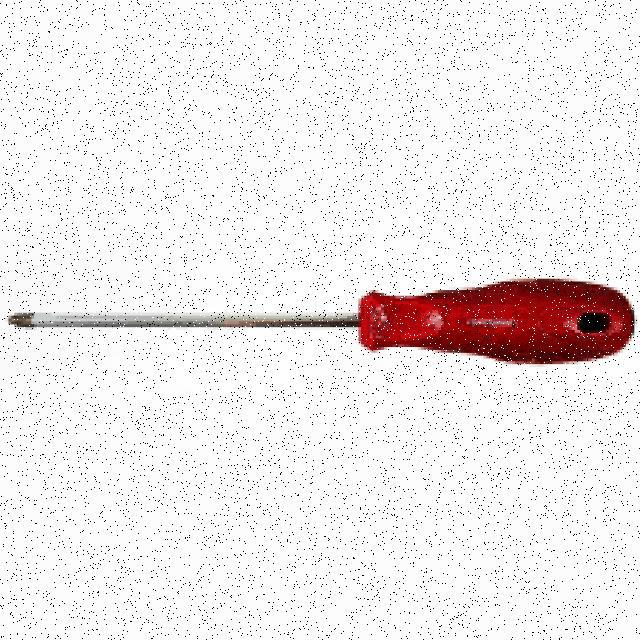screwdriver: (9, 278, 634, 365)
